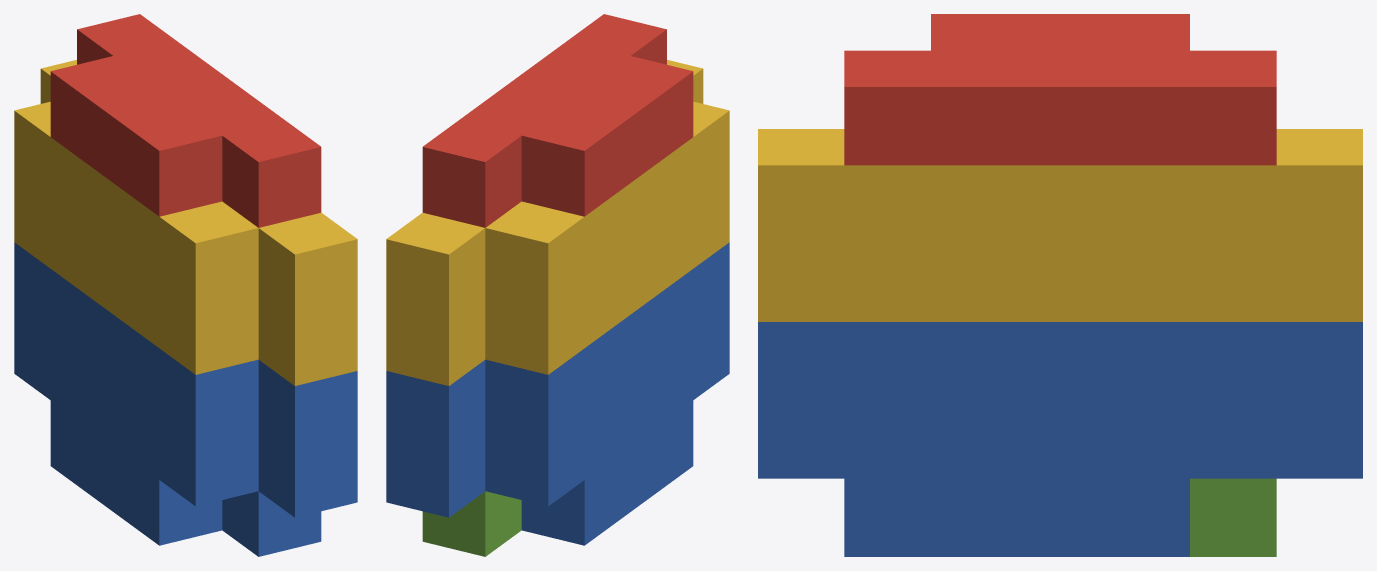
File: parrot__wing_l.glb
3 views of the same model, side by side, from view 1: azimuth 30°, elevation 25°; view 2: azimuth 150°, elevation 25°; view 3: azimuth 270°, elevation 25° (orthographic). The views are drawn at different scales.
Parts seen in each view (by area): view 1: parrot__wing_l; view 2: parrot__wing_l; view 3: parrot__wing_l.
Part boxes in pixels (box(x1,y1,x2,y2)): parrot__wing_l: box(14, 14, 357, 556); parrot__wing_l: box(386, 14, 729, 556); parrot__wing_l: box(758, 14, 1362, 556).
Size of the model in its own units: 0.2 by 0.6 by 0.7.
1 material, 1 textured.
